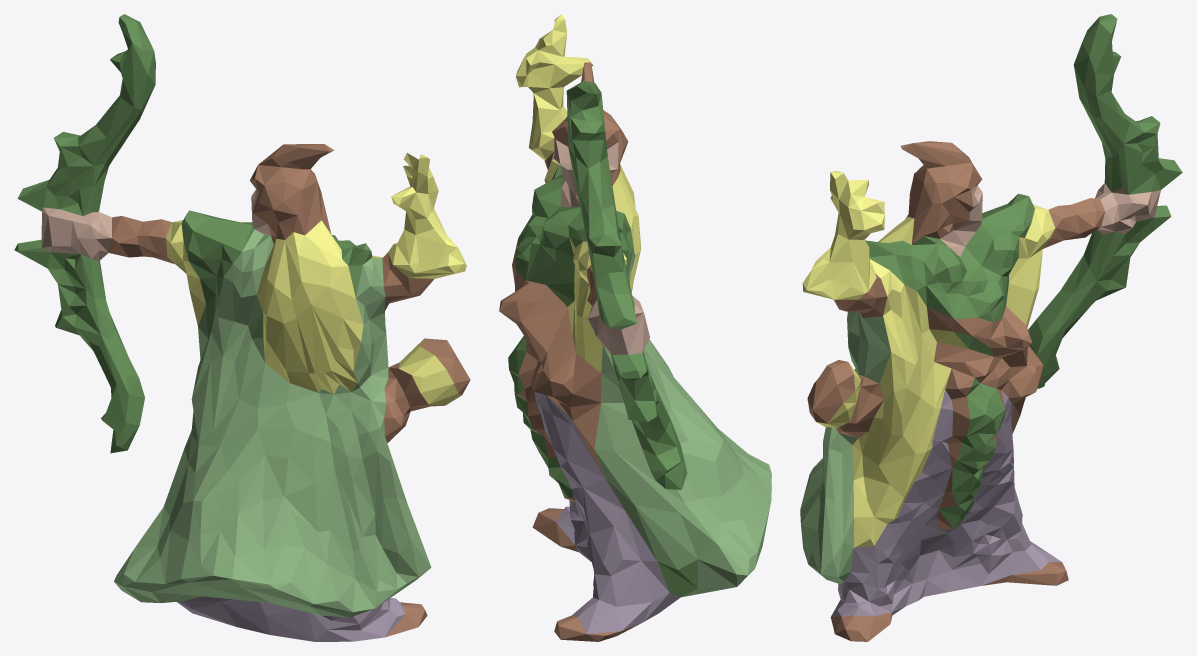
File: syvarris_low_poly.glb
3 views of the same model, side by side, from view 1: azimuth 30°, elevation 25°; view 2: azimuth 150°, elevation 25°; view 3: azimuth 270°, elevation 25° (orthographic). The views are drawn at different scales.
Visible parts, largest first — view 1: Syvarris; view 2: Syvarris; view 3: Syvarris.
Boxes of the visible parts, x1=… form: Syvarris: x1=14, y1=14, x2=470, y2=641; Syvarris: x1=499, y1=14, x2=771, y2=641; Syvarris: x1=800, y1=14, x2=1182, y2=641.
Bounding box in the file's own units: 1.18 × 2.22 × 1.42.
